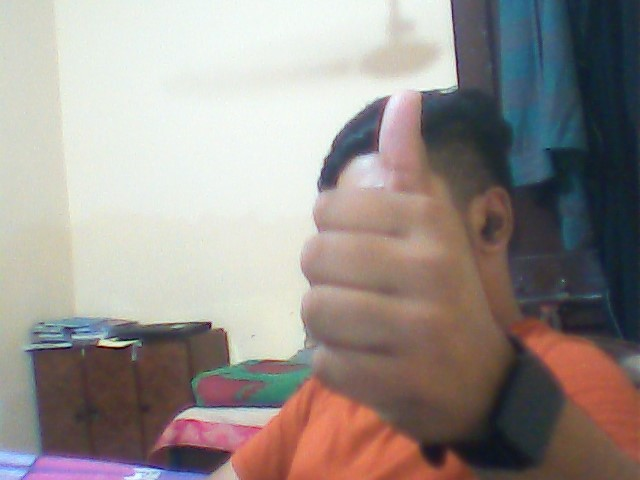Thanks: (293, 83, 548, 440)
